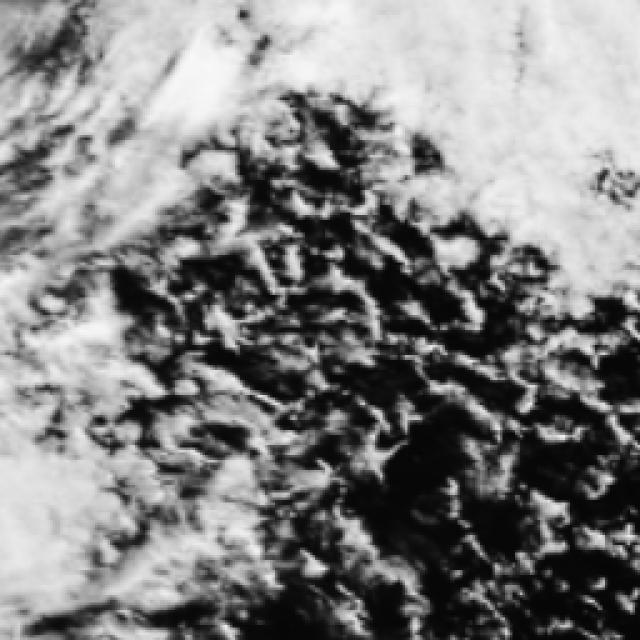CB: (417, 0, 640, 133), (0, 444, 95, 606)
